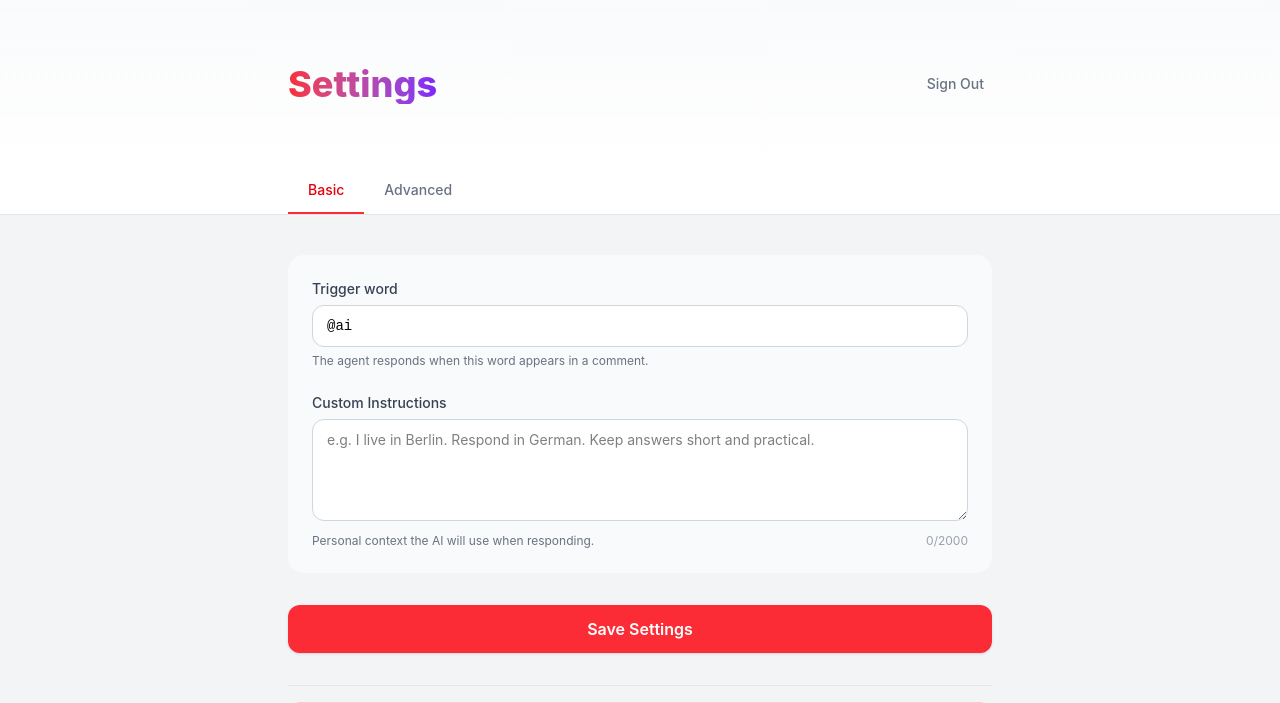
Test: Settings: form interactions › updates character count on custom prompt input
Expected: the heading "Settings" is shown, [288,64,437,104]
Type "Hello" into the text box with placeholder "I live in Berlin". click: (640, 470)
box: [312,419,968,521]
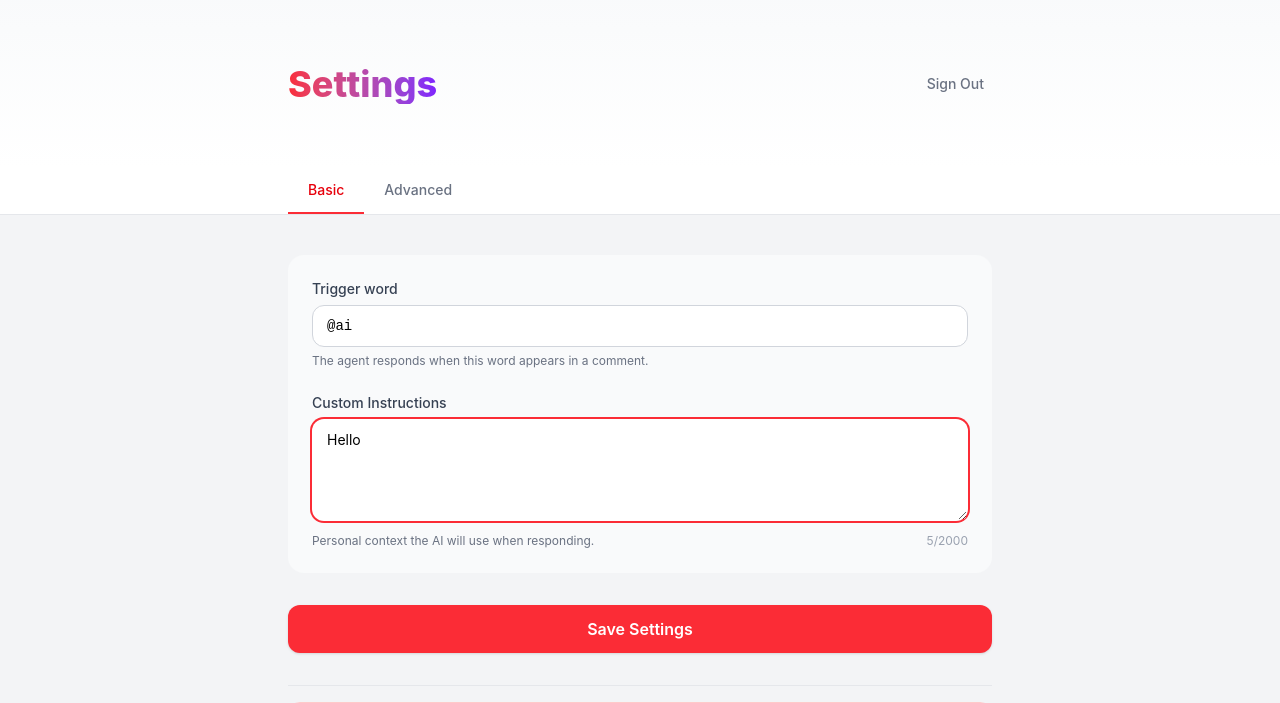
Result: the text "5/2000" is shown at [926,533,968,549]
